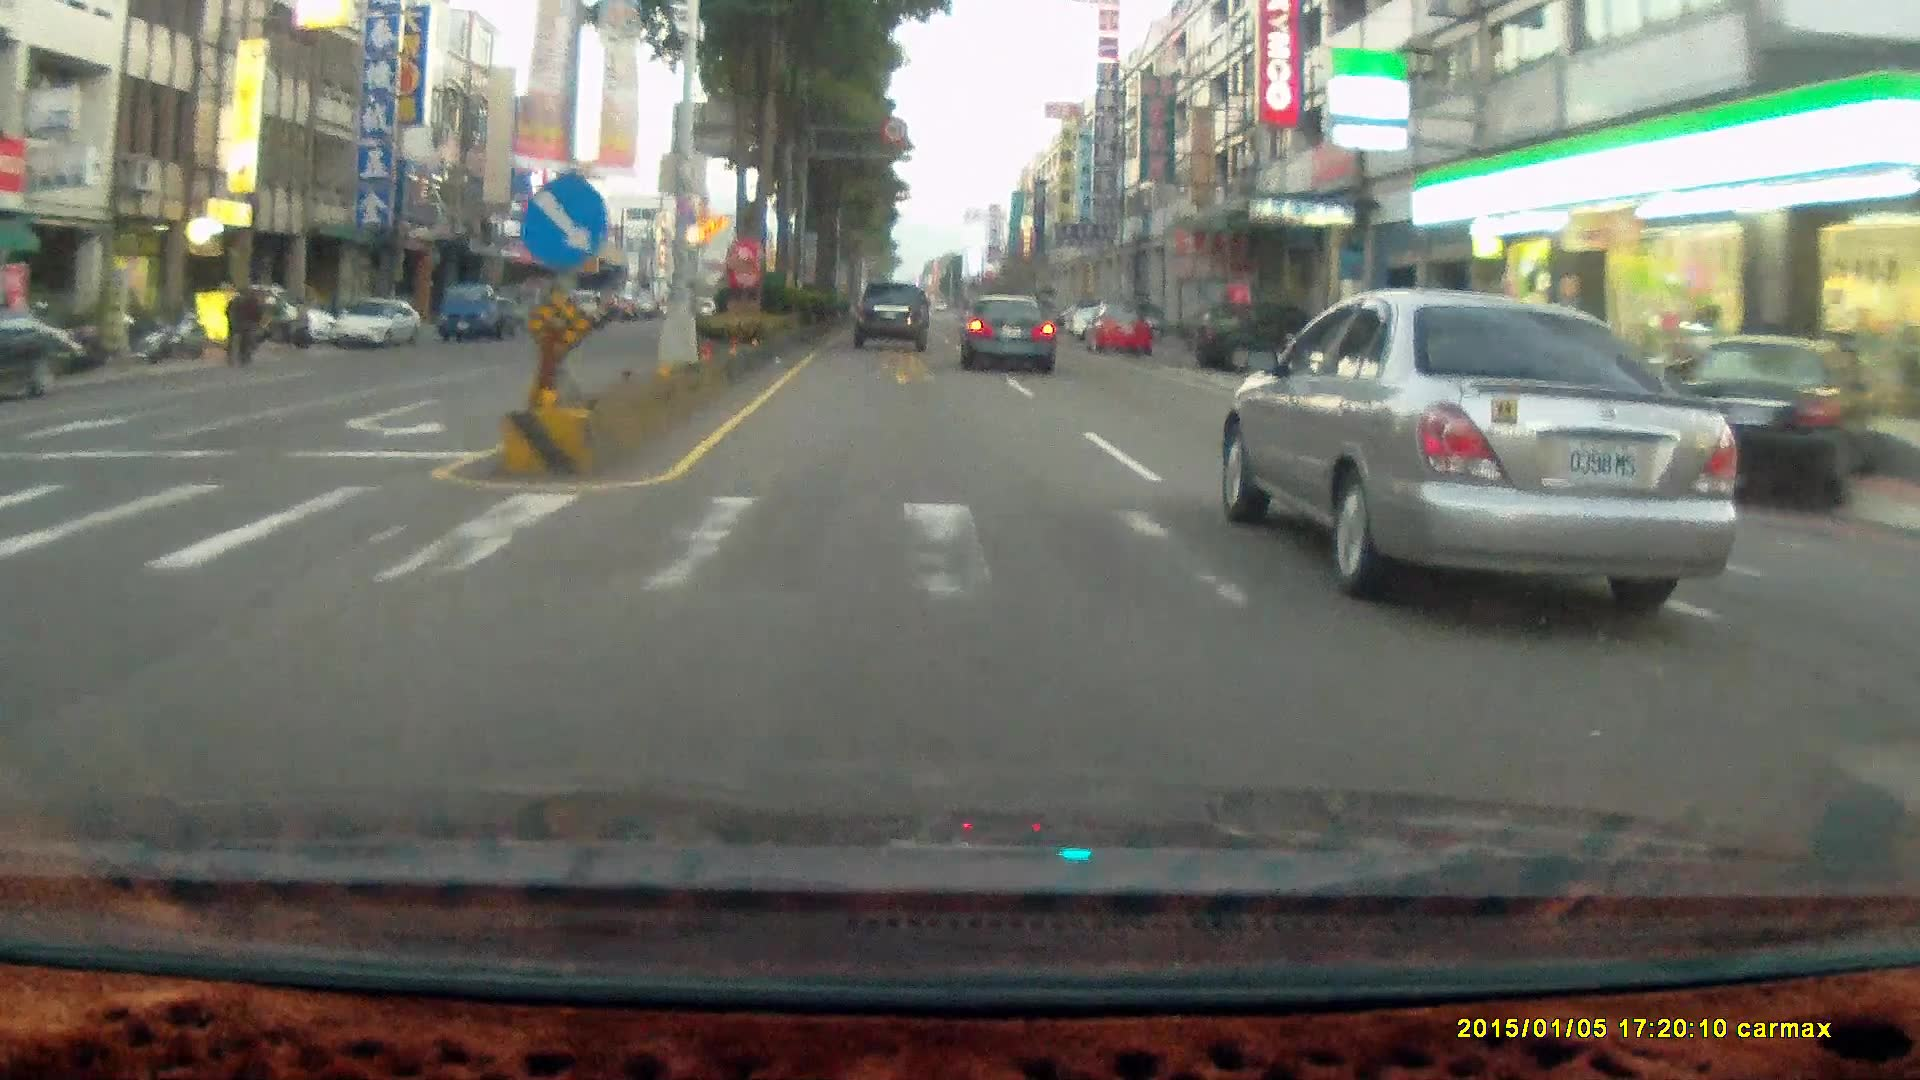pedestrian: (234, 285, 264, 367), (232, 286, 263, 366)
vehicle: (1227, 286, 1739, 606), (1676, 331, 1869, 506), (1694, 332, 1864, 521), (1316, 316, 1455, 420), (1201, 309, 1337, 379), (1192, 302, 1328, 371), (961, 294, 1060, 375), (215, 281, 335, 345), (959, 292, 1055, 370), (441, 288, 532, 354), (0, 312, 67, 398), (325, 296, 426, 352), (853, 283, 932, 355), (852, 280, 929, 350), (329, 297, 421, 347), (437, 282, 513, 342), (1087, 303, 1156, 360), (1080, 303, 1150, 355), (556, 289, 607, 331)
